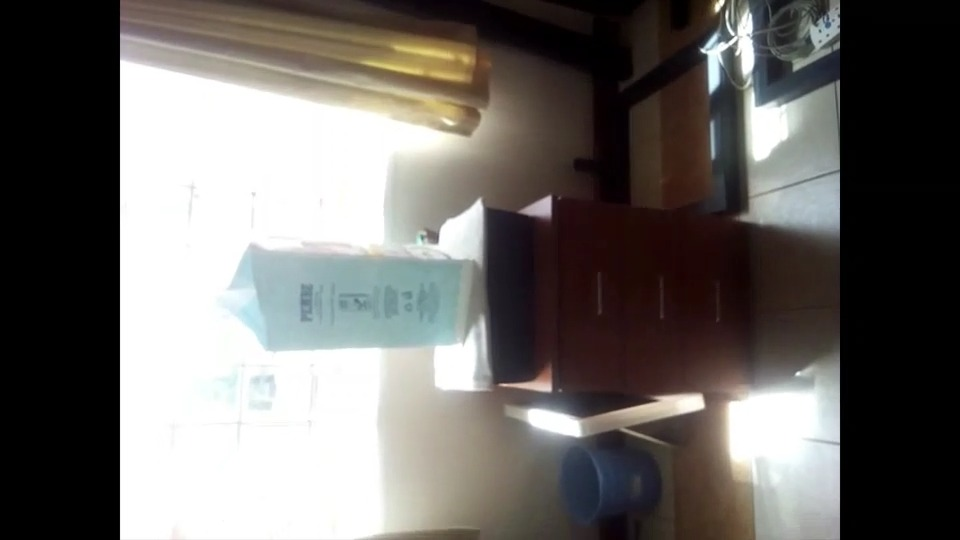wheat_flour_blue_label: (236, 245, 471, 346)
